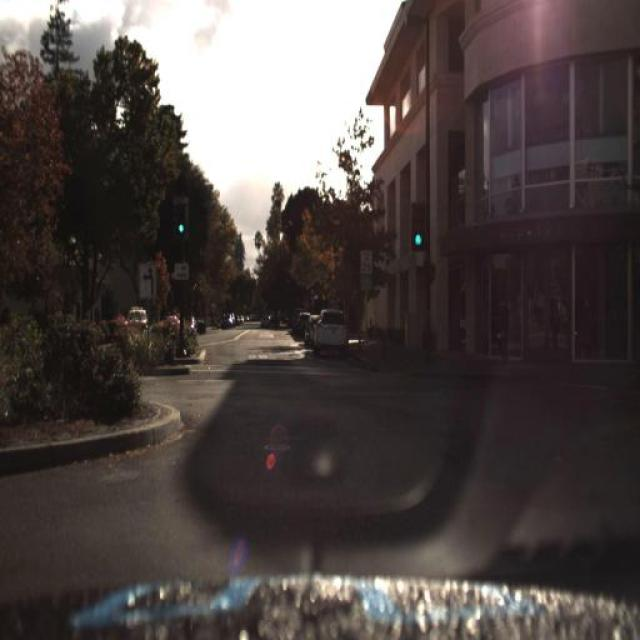car: (110, 299, 154, 340), (311, 317, 344, 363)
trafficLight: (494, 285, 514, 366), (494, 291, 510, 368)
trafficLight-Green: (411, 204, 425, 258), (171, 214, 189, 254)
trafficLight-GreenLeft: (176, 205, 187, 243)
